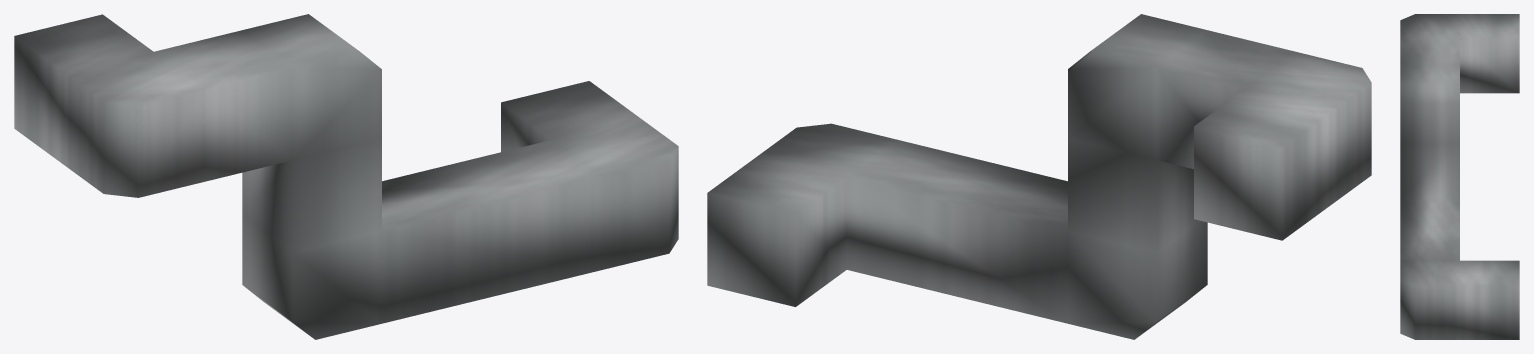
Rendered from Duct.fbx.
The picture shows the model from 3 angles, left to right: view 1: azimuth 30°, elevation 25°; view 2: azimuth 150°, elevation 25°; view 3: azimuth 270°, elevation 25°; orthographic projection. The views are drawn at different scales.
Parts seen in each view (by area): view 1: Cube; view 2: Cube; view 3: Cube.
Part boxes in pixels (x1=…): Cube: x1=14, y1=14, x2=678, y2=339; Cube: x1=707, y1=14, x2=1371, y2=339; Cube: x1=1400, y1=14, x2=1519, y2=339.
Size of the model in its own units: 13 by 6 by 4.
